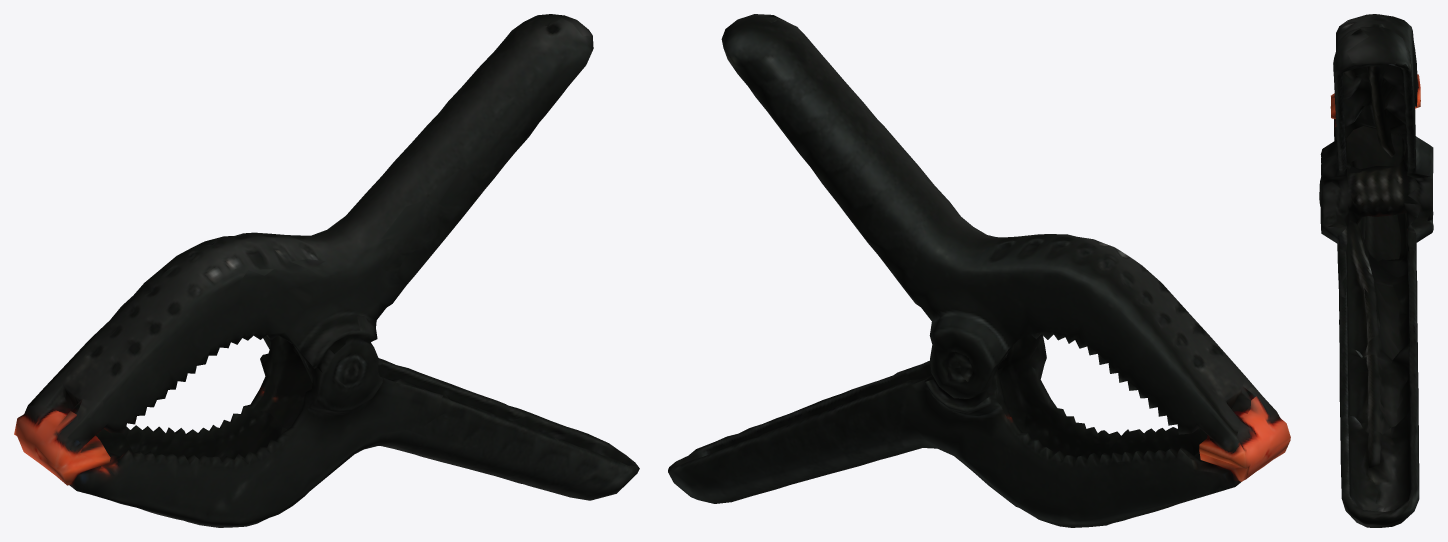
The picture shows the model from 3 angles, left to right: view 1: azimuth 30°, elevation 25°; view 2: azimuth 150°, elevation 25°; view 3: azimuth 270°, elevation 25°; orthographic projection. The views are drawn at different scales.
Visible parts, largest first — view 1: textured.013; view 2: textured.013; view 3: textured.013.
Boxes of the visible parts, box(x1,y1,x2,y2) form: textured.013: box(14, 14, 639, 527); textured.013: box(668, 14, 1290, 527); textured.013: box(1319, 14, 1433, 527).
Size of the model in its own units: 0.2099 by 0.1644 by 0.0362.
Materials: 1 (1 with a texture image).
